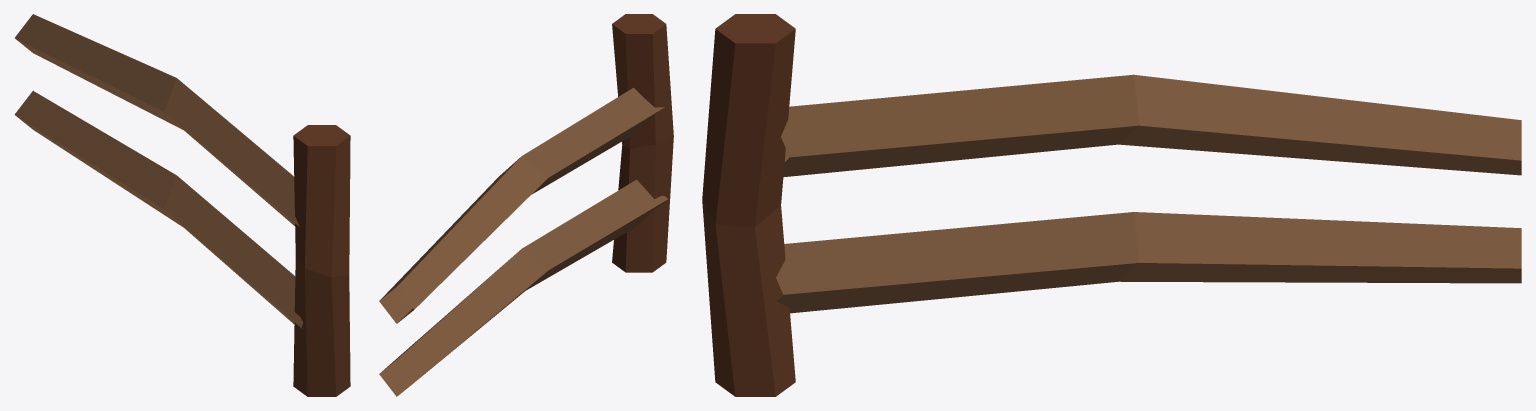
Rendered from Fence#1.fbx.
The picture shows the model from 3 angles, left to right: view 1: azimuth 30°, elevation 25°; view 2: azimuth 150°, elevation 25°; view 3: azimuth 270°, elevation 25°; orthographic projection. The views are drawn at different scales.
Visible parts, largest first — view 1: Cylinder.002; view 2: Cylinder.002; view 3: Cylinder.002.
Part boxes in pixels (<box>): Cylinder.002: <box>14,14,350,396</box>; Cylinder.002: <box>379,14,673,396</box>; Cylinder.002: <box>702,14,1521,396</box>.
Size of the model in its own units: 67.81 by 285 by 599.
